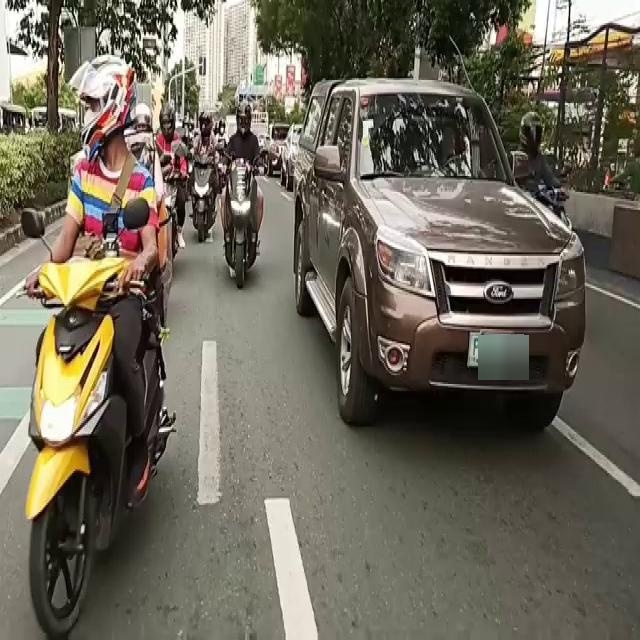car: (304, 63, 580, 449)
motorcycle: (50, 94, 180, 622), (514, 112, 572, 241), (227, 109, 255, 288), (162, 111, 188, 255), (192, 110, 220, 240)
